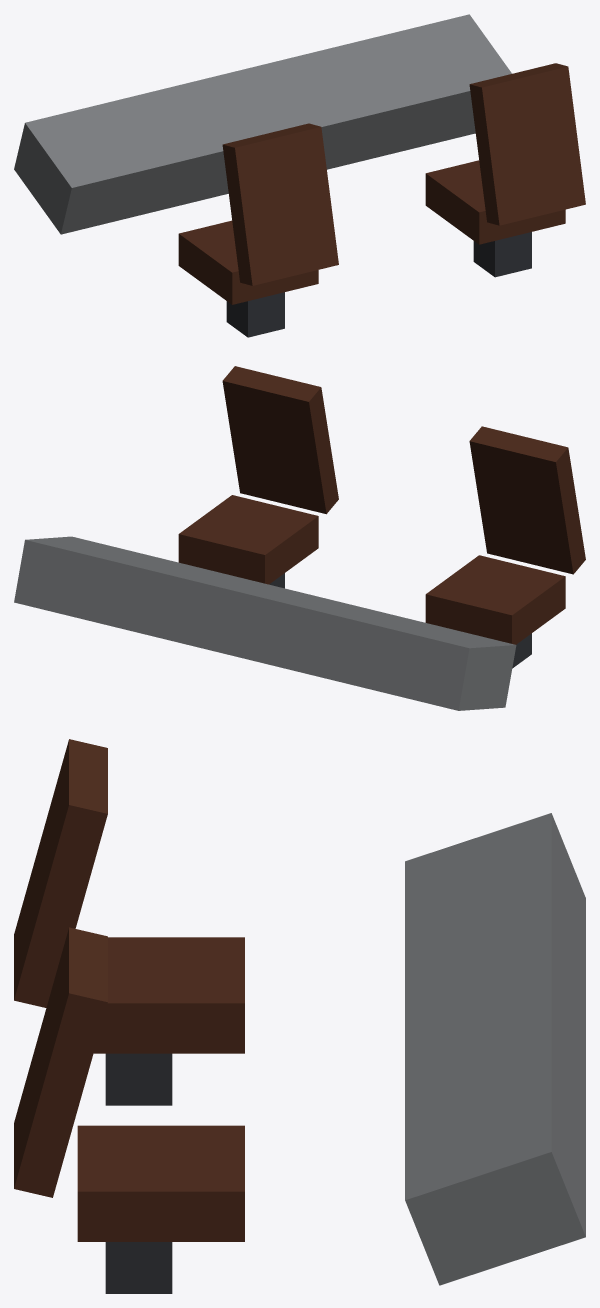
File: ec2_seats.obj
The picture shows the model from 3 angles, top to bottom: view 1: azimuth 30°, elevation 25°; view 2: azimuth 150°, elevation 25°; view 3: azimuth 270°, elevation 25°; orthographic projection. The views are drawn at different scales.
Parts seen in each view (by area): view 1: ec2_seats; view 2: ec2_seats; view 3: ec2_seats.
Boxes of the visible parts, left/top/right/bottom form: ec2_seats: left=14, top=14, right=585, bottom=337; ec2_seats: left=14, top=366, right=585, bottom=710; ec2_seats: left=14, top=739, right=585, bottom=1293.
Size of the model in its own units: 3.6 by 1.58 by 2.57.
